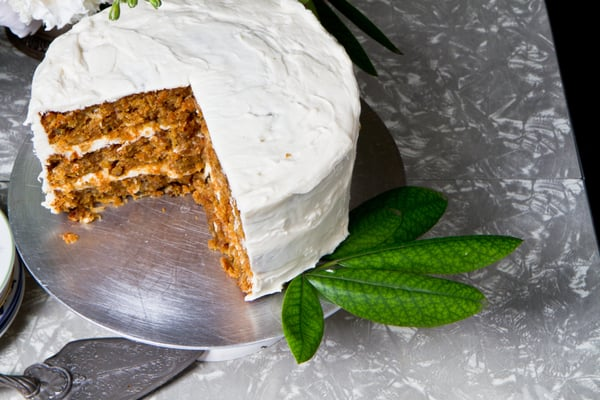sushi: (29, 83, 256, 296)
